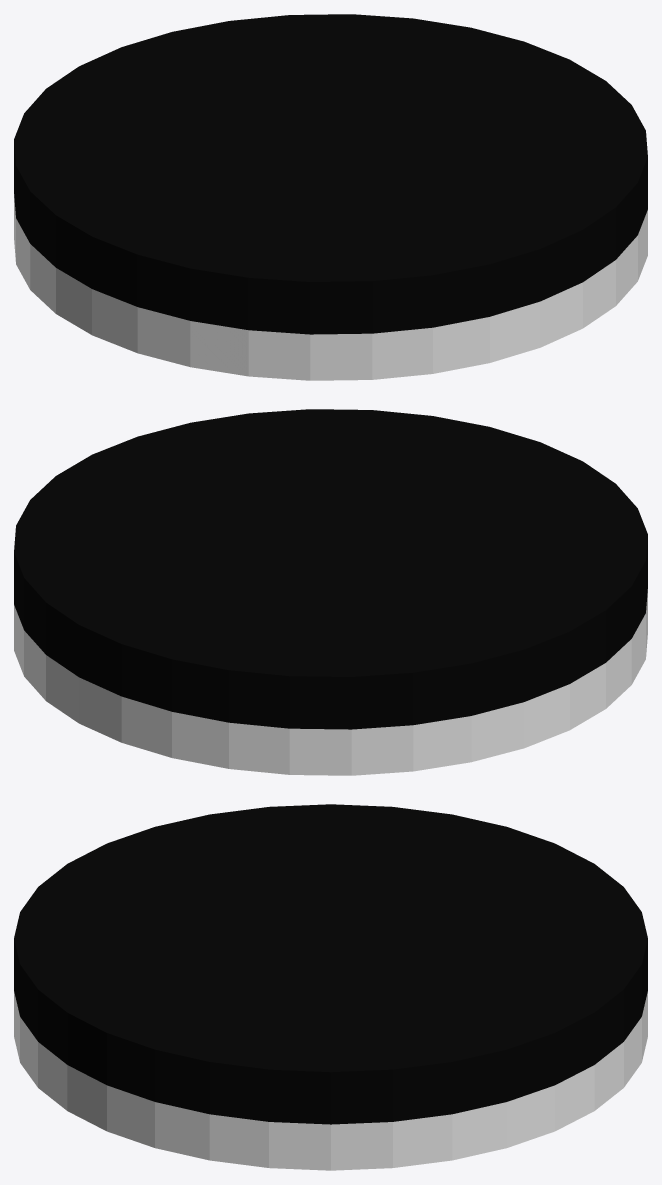
Rendered from token_black.glb.
The picture shows the model from 3 angles, top to bottom: view 1: azimuth 30°, elevation 25°; view 2: azimuth 150°, elevation 25°; view 3: azimuth 270°, elevation 25°; orthographic projection.
Visible parts, largest first — view 1: Obj_Disc.111; view 2: Obj_Disc.111; view 3: Obj_Disc.111.
Boxes of the visible parts, x1,y1,x2,y2 form: Obj_Disc.111: (14, 14, 647, 380); Obj_Disc.111: (14, 409, 647, 775); Obj_Disc.111: (14, 804, 647, 1170).
Size of the model in its own units: 14 by 2.4 by 14.
Materials: 1 (1 with a texture image).
